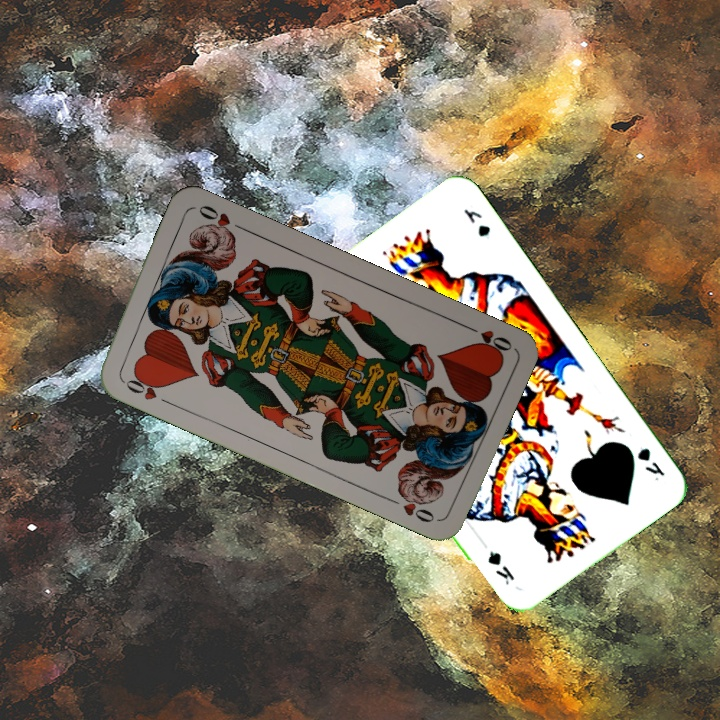GK: (633, 443, 667, 484)
HO: (117, 369, 173, 407), (459, 320, 515, 358)
